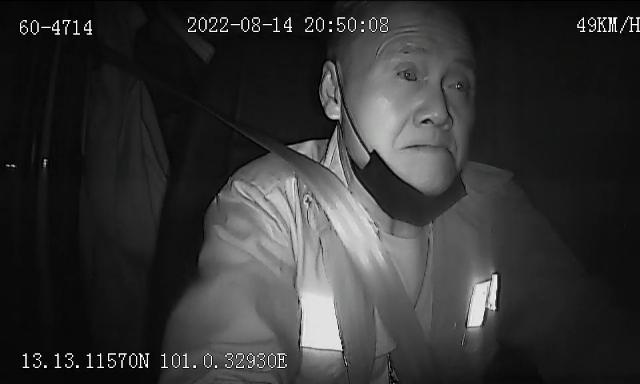SafeDriving: (389, 54, 427, 90), (440, 68, 474, 100)
Seatbelt: (251, 131, 437, 384)
